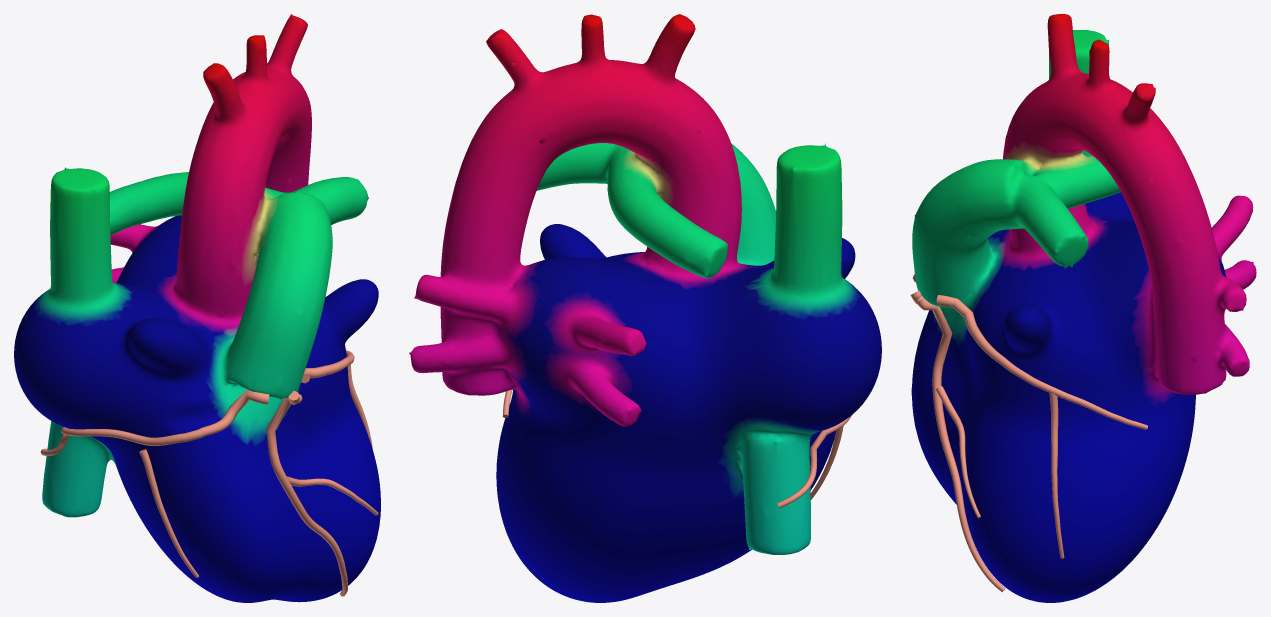
File: heart.glb
3 views of the same model, side by side, from view 1: azimuth 30°, elevation 25°; view 2: azimuth 150°, elevation 25°; view 3: azimuth 270°, elevation 25° (orthographic). The views are drawn at different scales.
Visible parts, largest first — view 1: Heart, Coronaries; view 2: Heart, Coronaries; view 3: Heart, Coronaries.
Boxes of the visible parts, x1,y1,x2,y2 form: Heart: [14, 14, 380, 602]; Coronaries: [40, 350, 378, 596]; Heart: [409, 14, 881, 602]; Coronaries: [502, 389, 851, 508]; Heart: [911, 14, 1256, 602]; Coronaries: [910, 274, 1147, 592].
Size of the model in its own units: 1.5 by 2.3 by 1.33.
